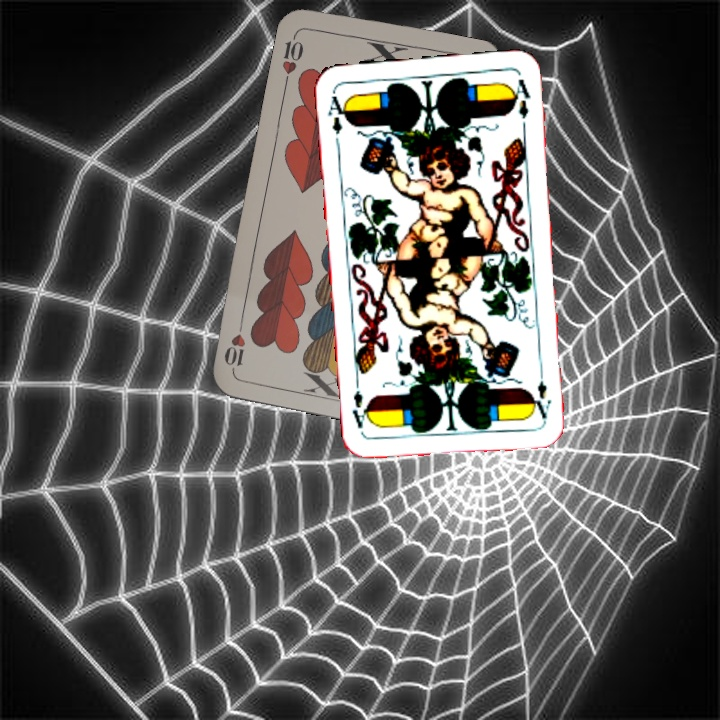EA: (324, 88, 351, 137), (532, 363, 554, 421)
H10: (277, 28, 306, 87)
